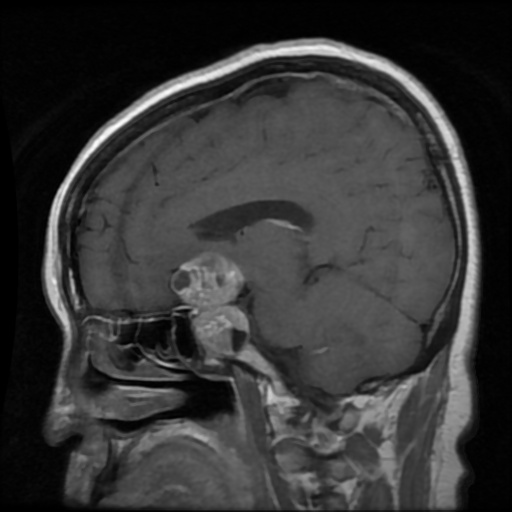pituitary: (178, 251, 250, 357)
